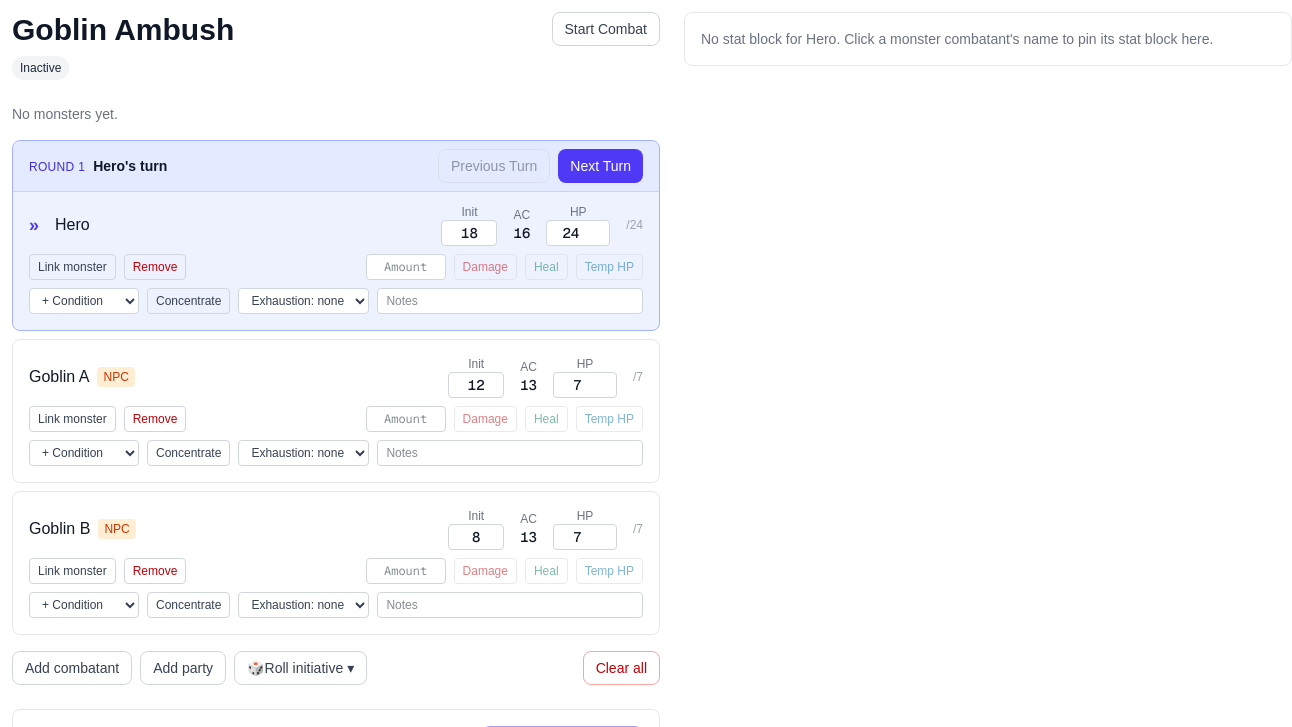
it: live-combat layout (VEG-384) › moves the inline turn header to the next card after advancing
The image size is (1292, 727).
Expected: the text "Hero's turn" is shown, x1=93 y1=156 x2=167 y2=176
Click the button "Next Turn" at (601, 166), box x1=558 y1=149 x2=643 y2=183
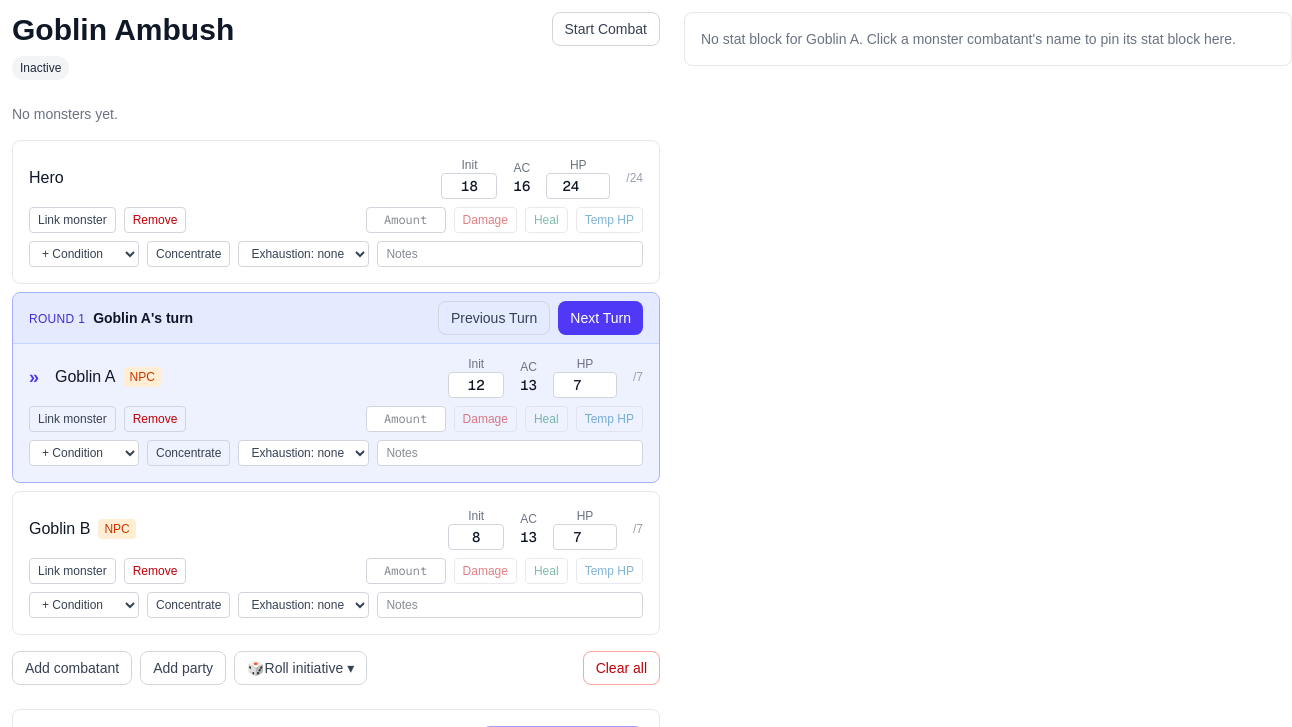
Expected: the text "Goblin A's turn" is shown, x1=93 y1=308 x2=193 y2=328
Expected: the text "Hero's turn" is gone
